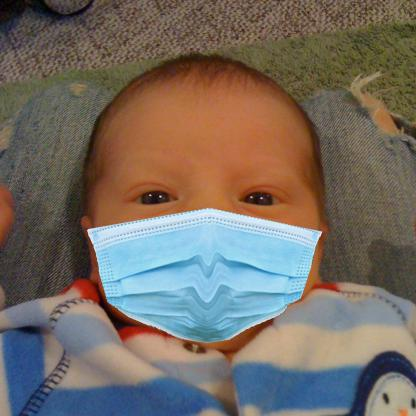Correctly_Masked: (82, 67, 326, 345)
